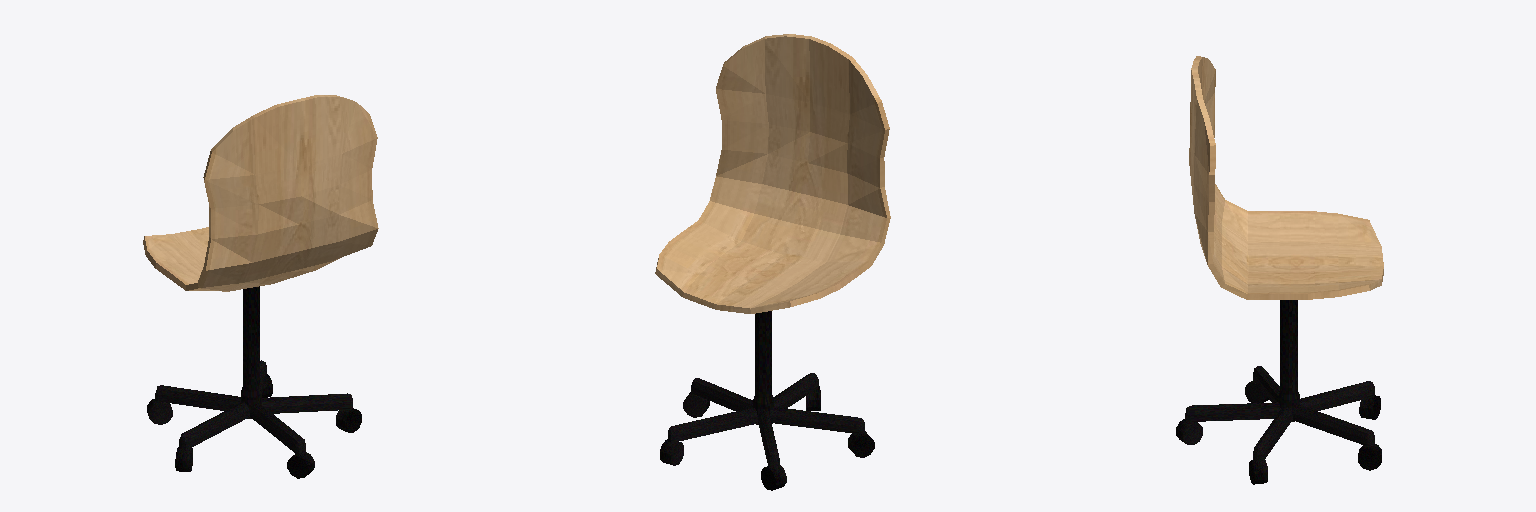
The picture shows the model from 3 angles: view 1: azimuth 30°, elevation 25°; view 2: azimuth 150°, elevation 25°; view 3: azimuth 270°, elevation 25°; orthographic projection.
Parts seen in each view (by area): view 1: pPlane3; view 2: pPlane3; view 3: pPlane3.
Boxes of the visible parts, x1=… form: pPlane3: x1=143, y1=95, x2=378, y2=478; pPlane3: x1=655, y1=34, x2=890, y2=490; pPlane3: x1=1176, y1=56, x2=1383, y2=484.
Bounding box in the file's own units: 5.93 × 11.32 × 5.71.
Materials: 1 (1 with a texture image).